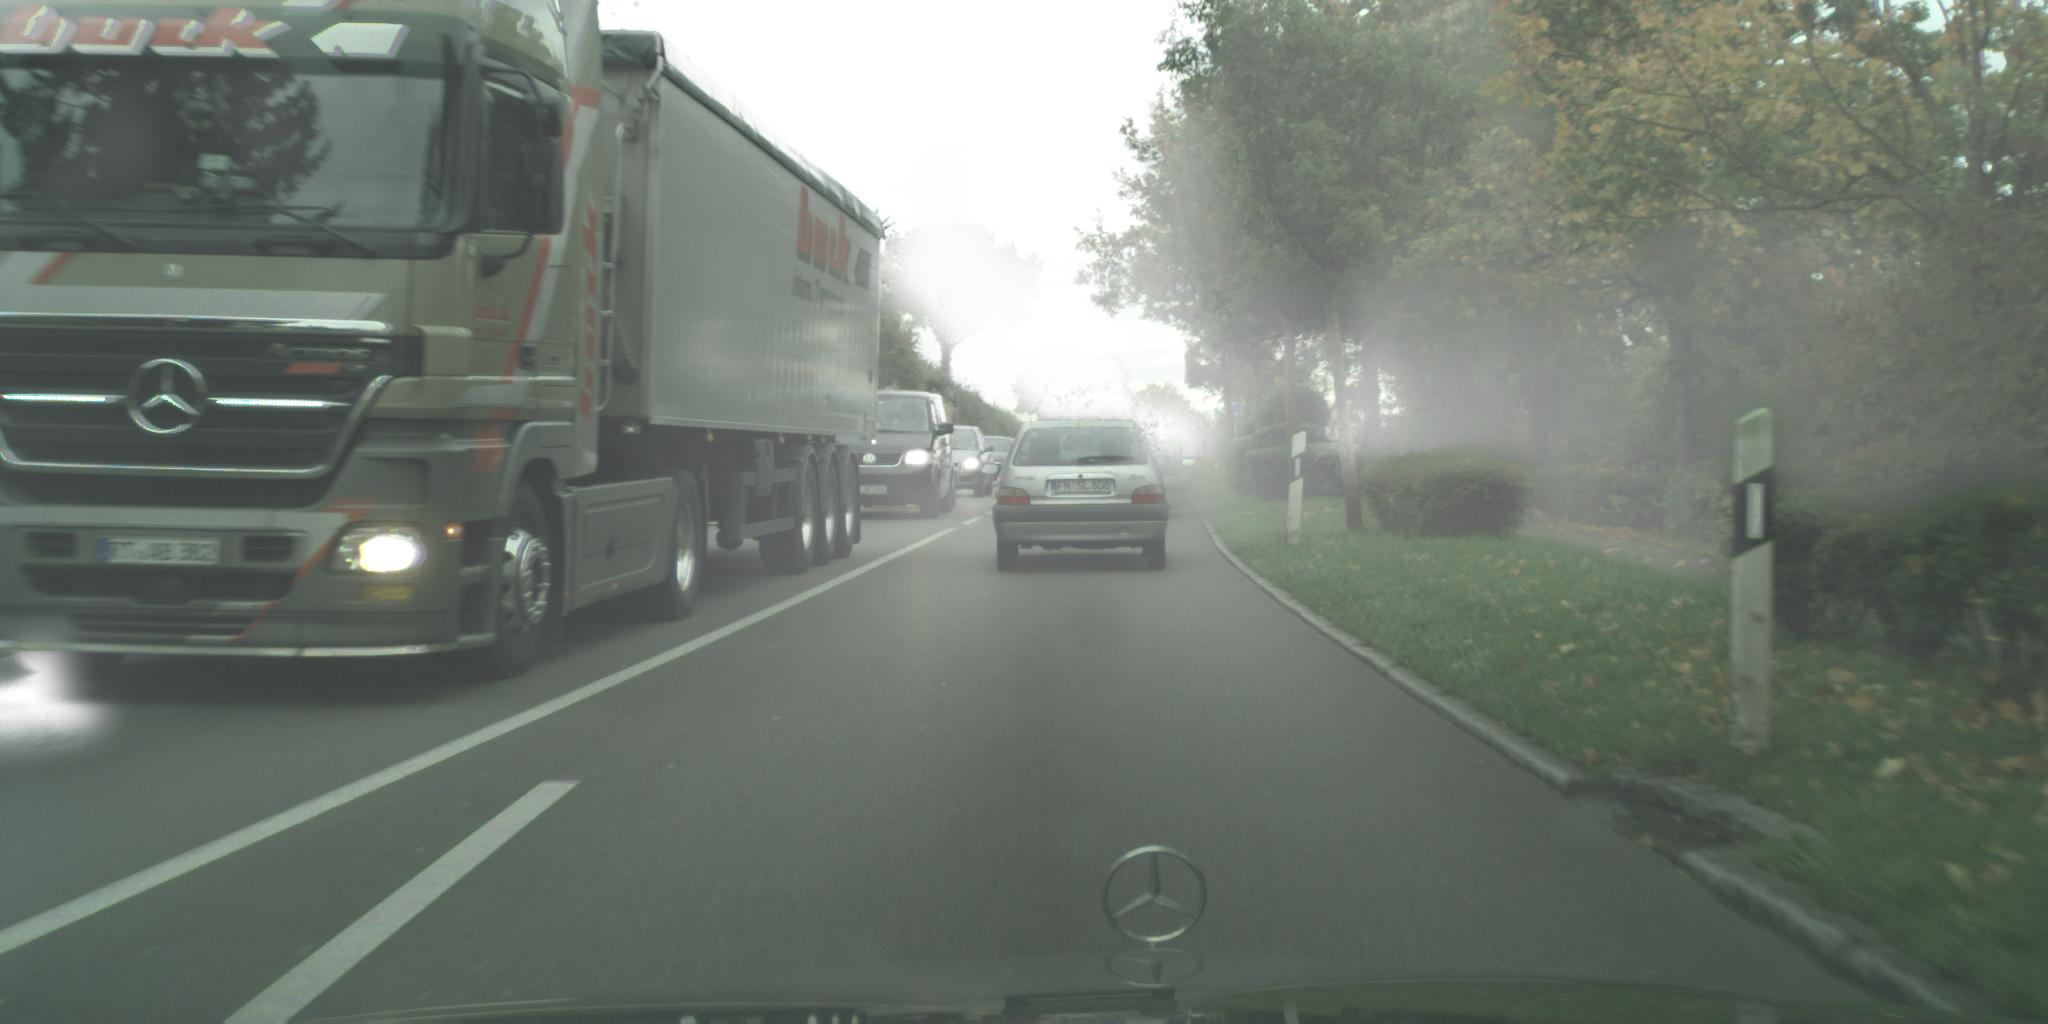car: (993, 419, 1179, 575), (822, 391, 956, 520), (938, 427, 994, 500), (974, 436, 1019, 495)
truck: (1, 3, 887, 686)
